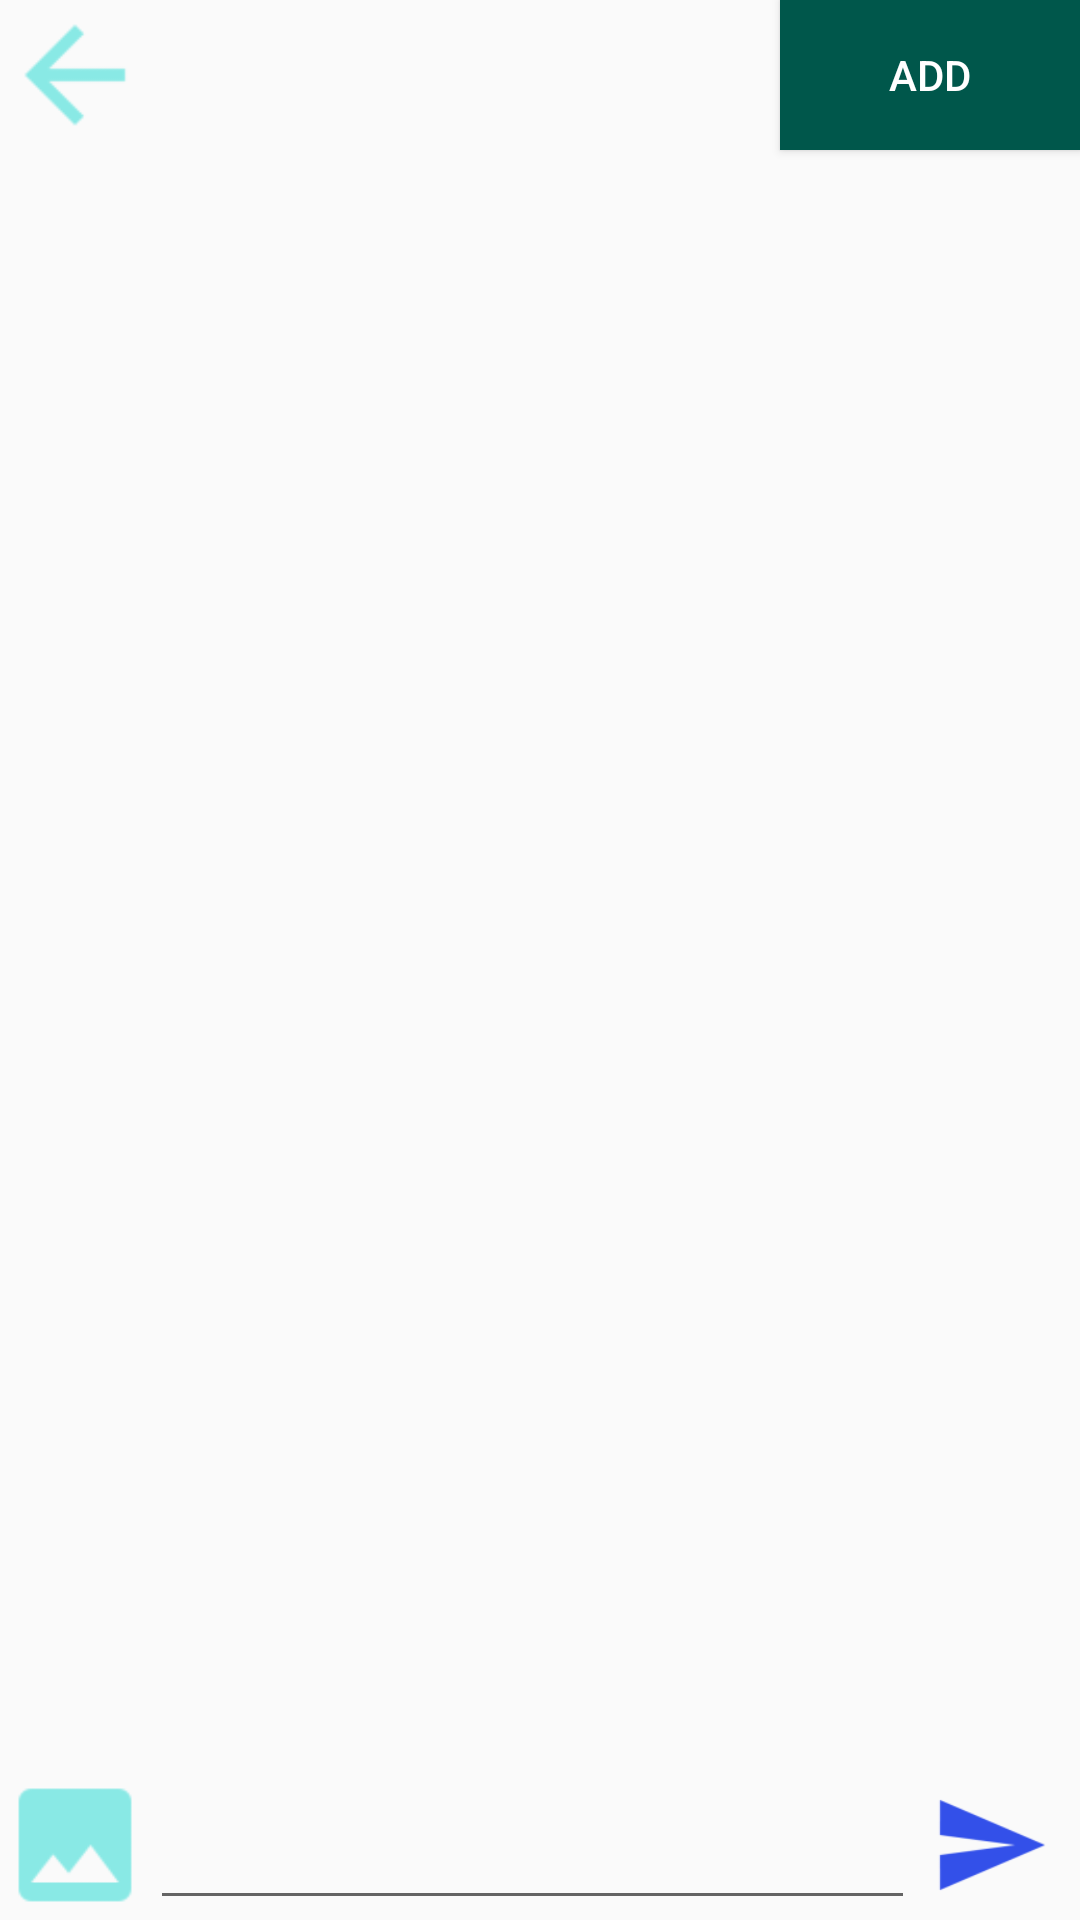

Icons on this 1080x1920 Android screen, each with the point to tap as (x=x, y=y):
arrow back: (x=75, y=75)
send: (x=992, y=1845)
